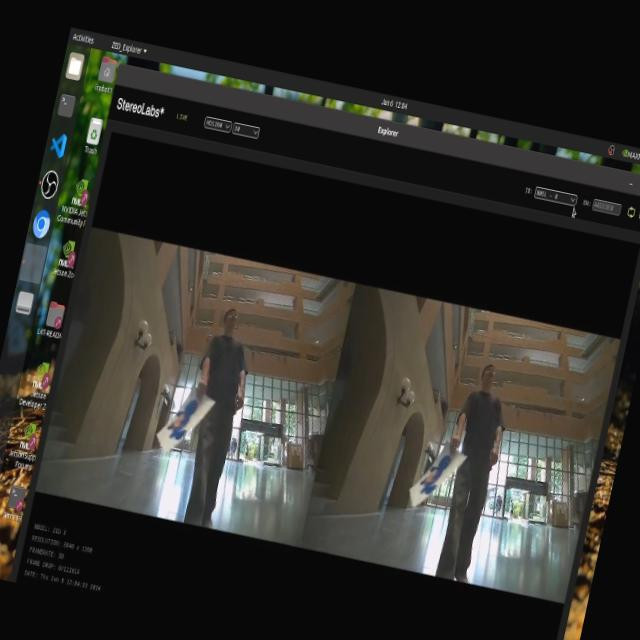blue: (417, 435, 453, 501), (168, 396, 204, 453)
